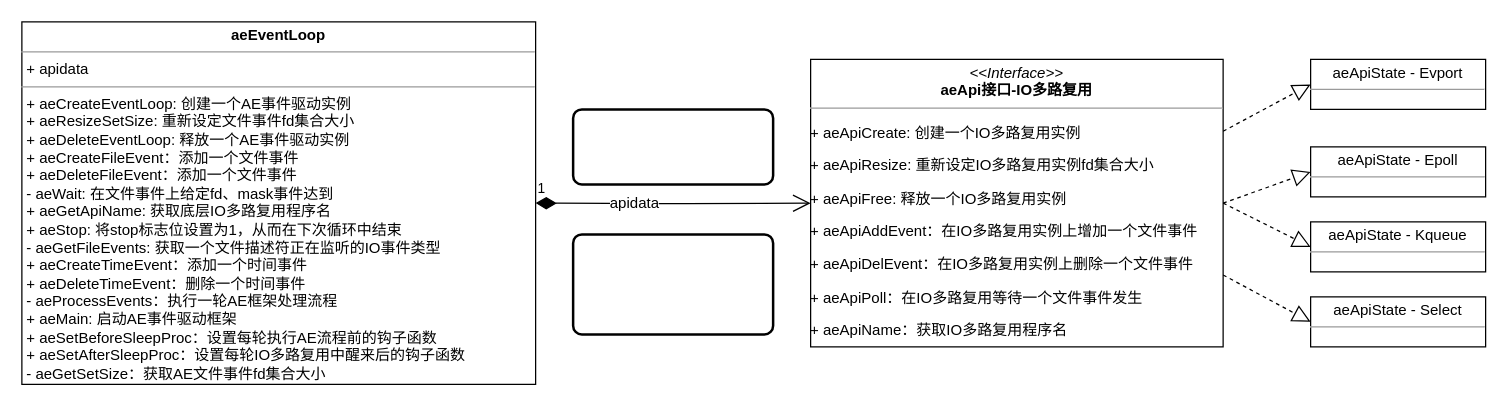
Image size: 1508x406. Some labels were removed from this diagram. The shapes that lost their labels are listed below. From the top down, each one's centre as x and y in pixels, then its label:
At [672,146]: "通过条件编译宏来为不同的平台引入不同的C文件，来选择合适的IO多路复用实现类".
At [672,283]: "通过跨平台宏__linux__定义HAVE_EPOLL宏，然后通过HAVE_EPOLL宏#include<ae_epoll.c>文件".
